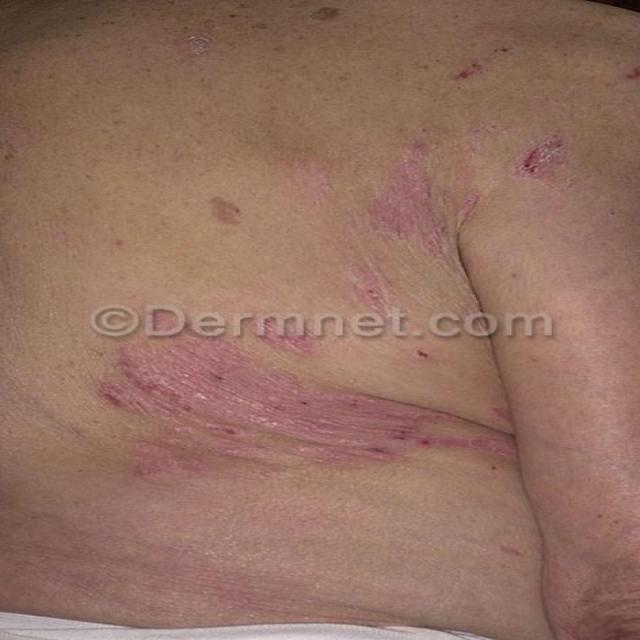Eczema: (91, 72, 568, 494)
